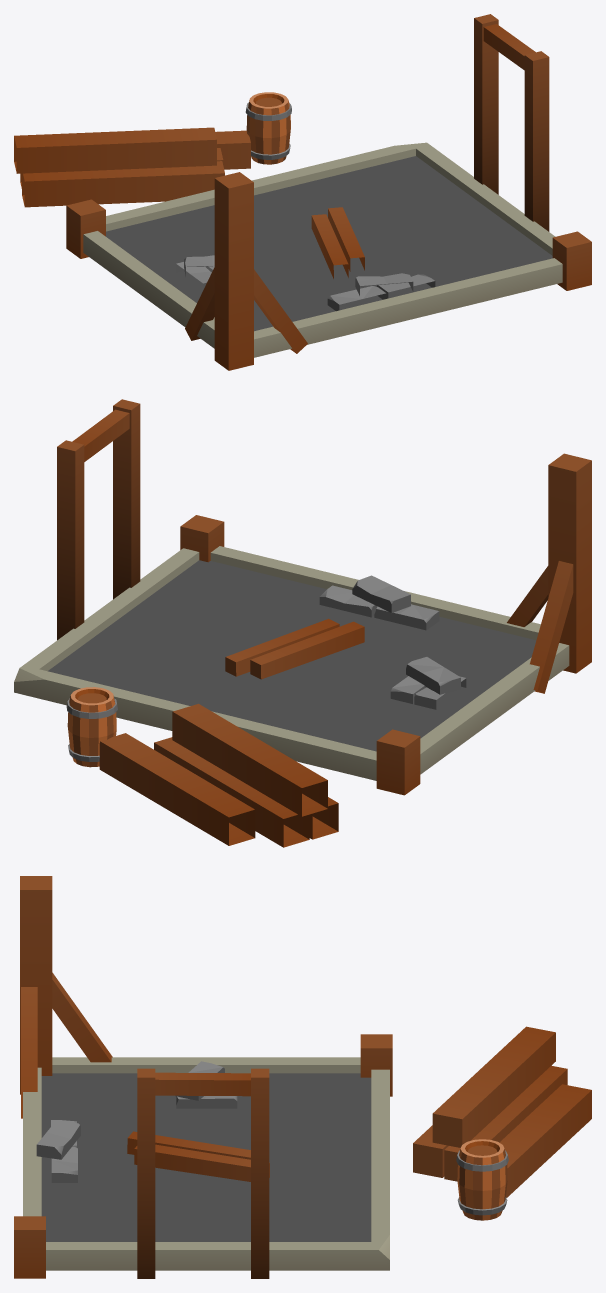
The model's file is blacksmith_d_01.fbx.
The picture shows the model from 3 angles, top to bottom: view 1: azimuth 30°, elevation 25°; view 2: azimuth 150°, elevation 25°; view 3: azimuth 270°, elevation 25°; orthographic projection. The views are drawn at different scales.
Parts seen in each view (by area): view 1: Box025.087; view 2: Box025.087; view 3: Box025.087.
Boxes of the visible parts, <box> form: Box025.087: <box>14,14,591,370</box>; Box025.087: <box>14,399,591,847</box>; Box025.087: <box>14,876,591,1278</box>.
Size of the model in its own units: 6.83 by 3.24 by 8.17.
